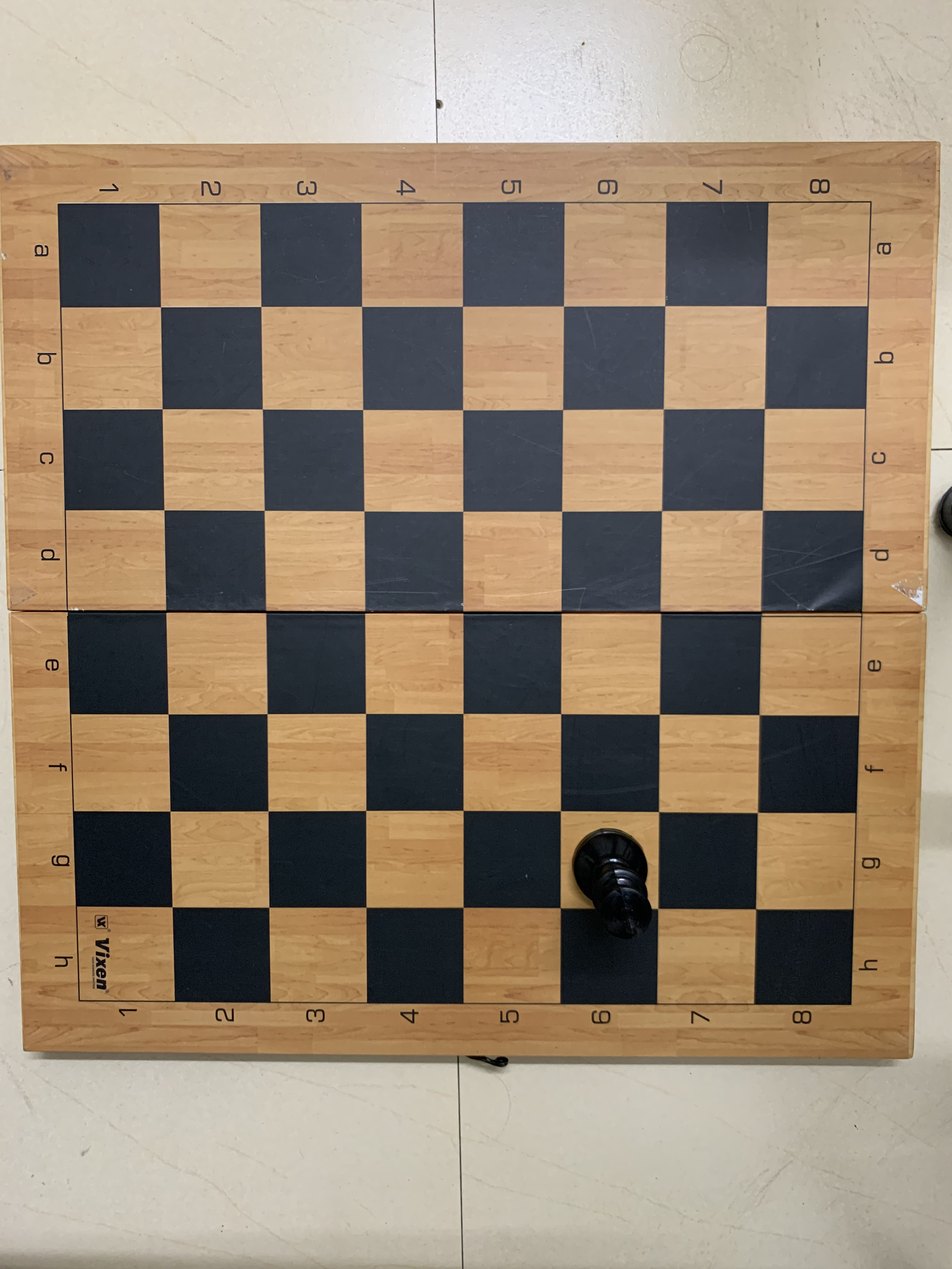black_king: (564, 808, 660, 946)
